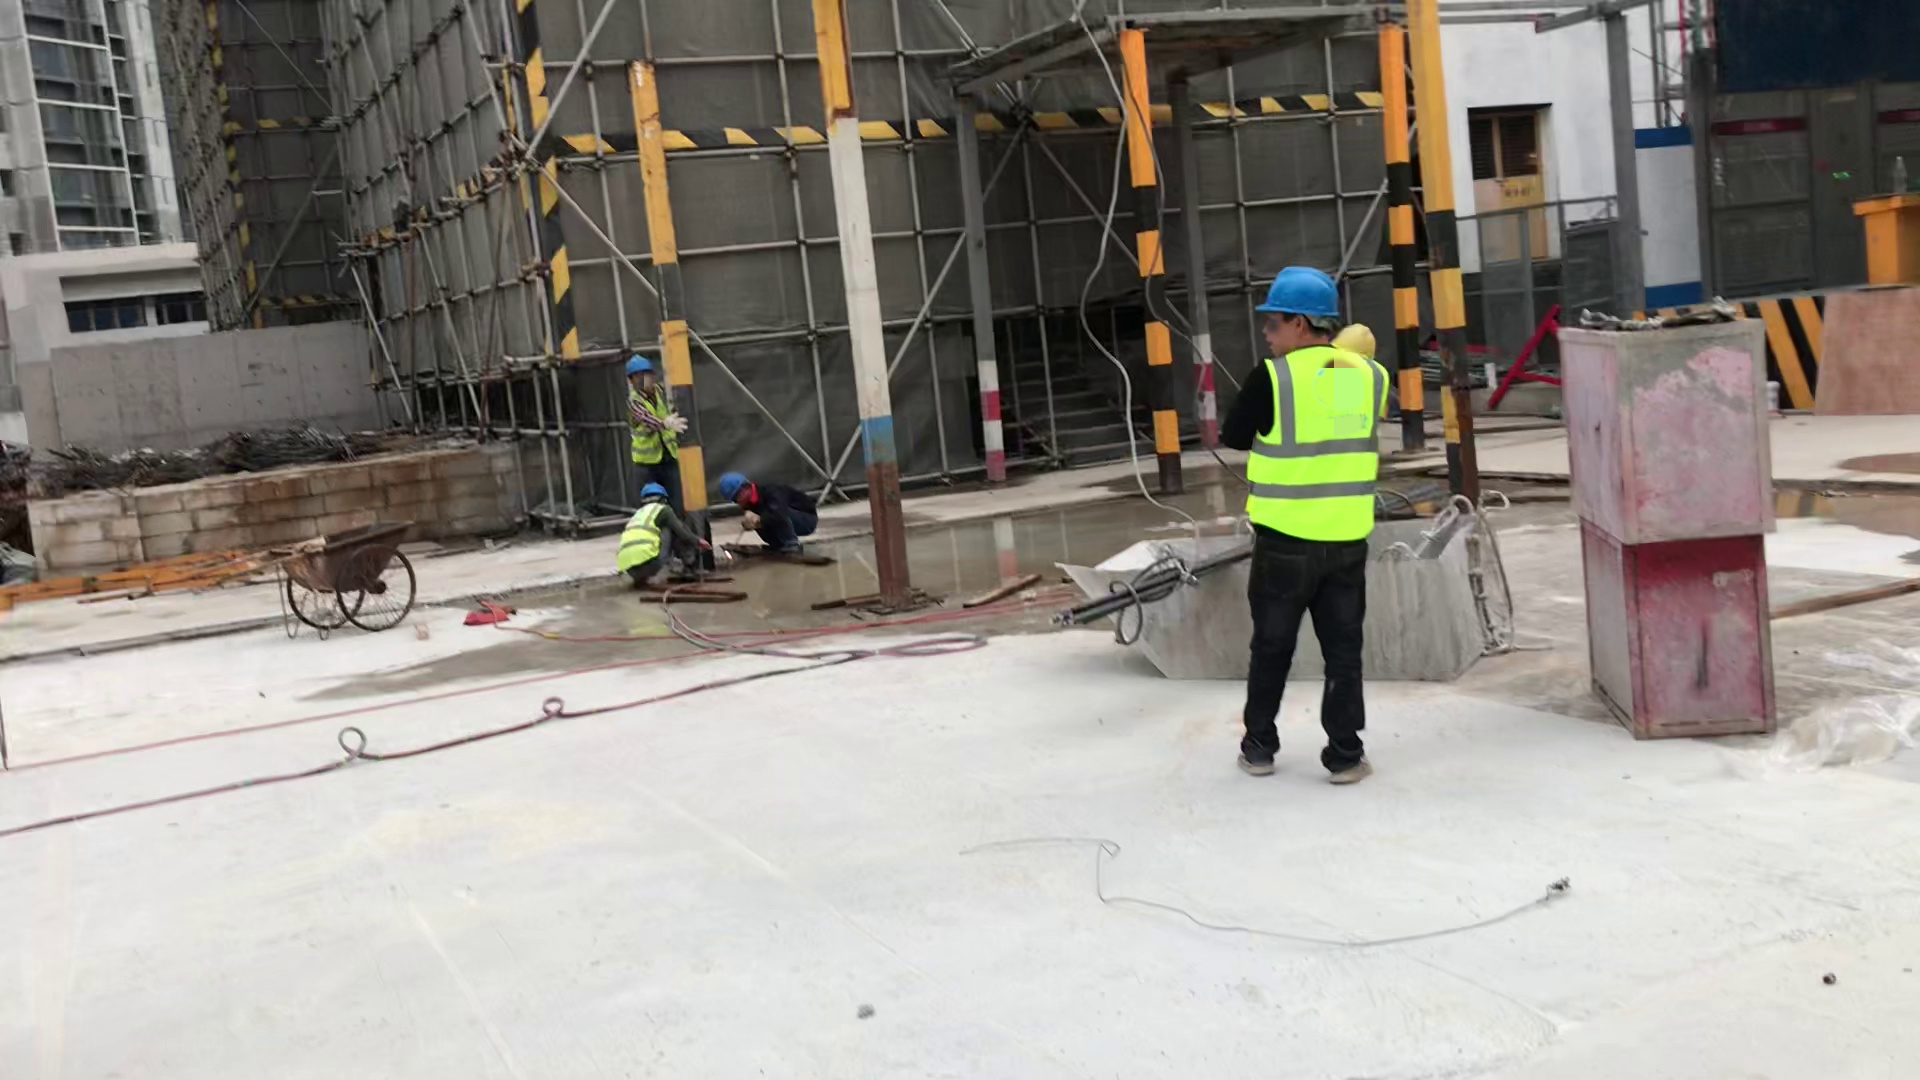handcart: (230, 507, 435, 659)
helmet: (1250, 249, 1354, 333), (716, 458, 758, 511), (616, 346, 665, 380), (625, 480, 674, 499)
hopper: (1035, 504, 1521, 701)
person: (1209, 238, 1456, 822), (704, 449, 844, 601), (605, 468, 721, 619), (612, 339, 715, 506)
rebar: (1052, 546, 1254, 643)
vest: (1237, 350, 1399, 564), (609, 382, 686, 465), (612, 500, 672, 582)
